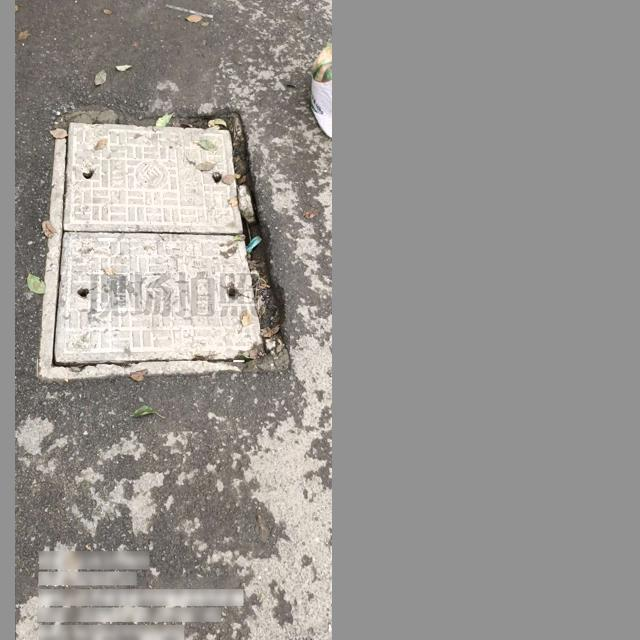circle: (41, 110, 292, 379)
